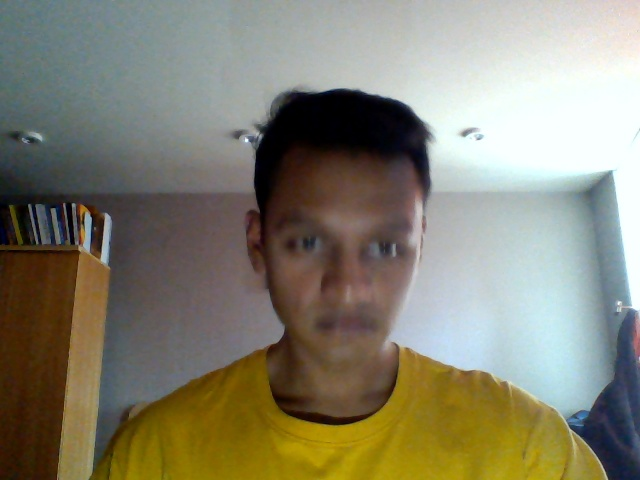no_mask: (253, 254, 406, 365)
